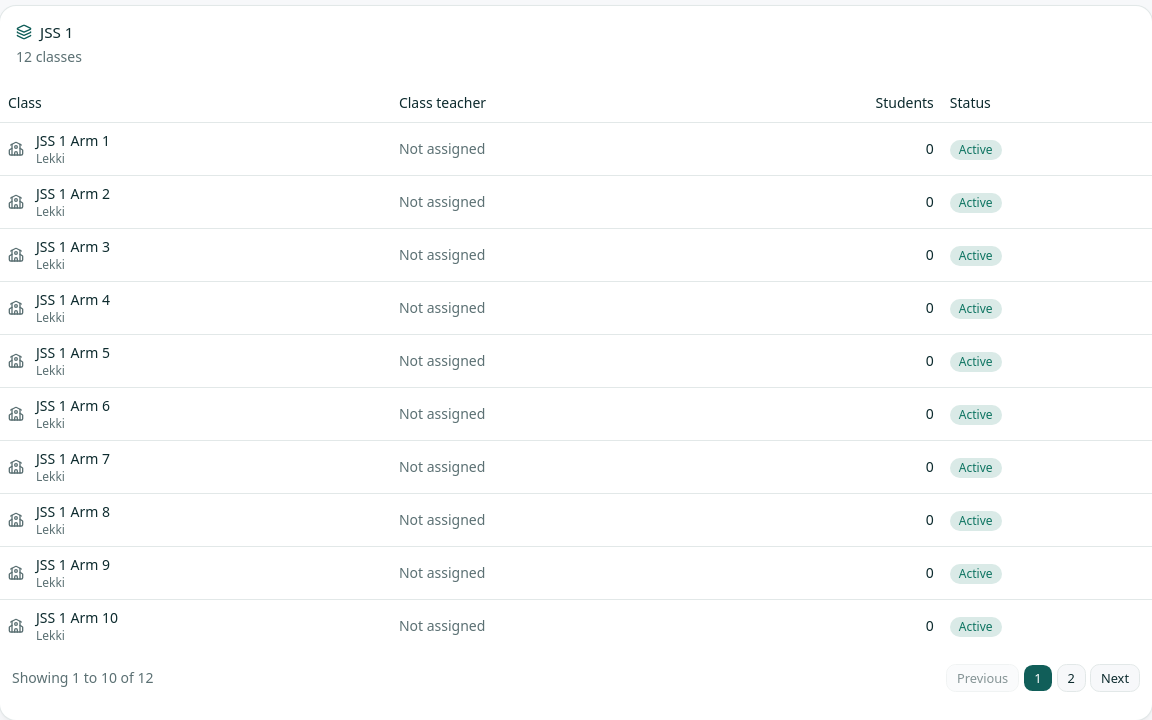
it: ClassesPage › pages a level of more than ten classes
(page scrolled)
Expected: the text "Showing 1 to 10 of 12" is shown, [12,668,154,688]
Step 1. Click the button named "Page 2" → click(1071, 678), box [1057,664,1086,692]
(page scrolled)
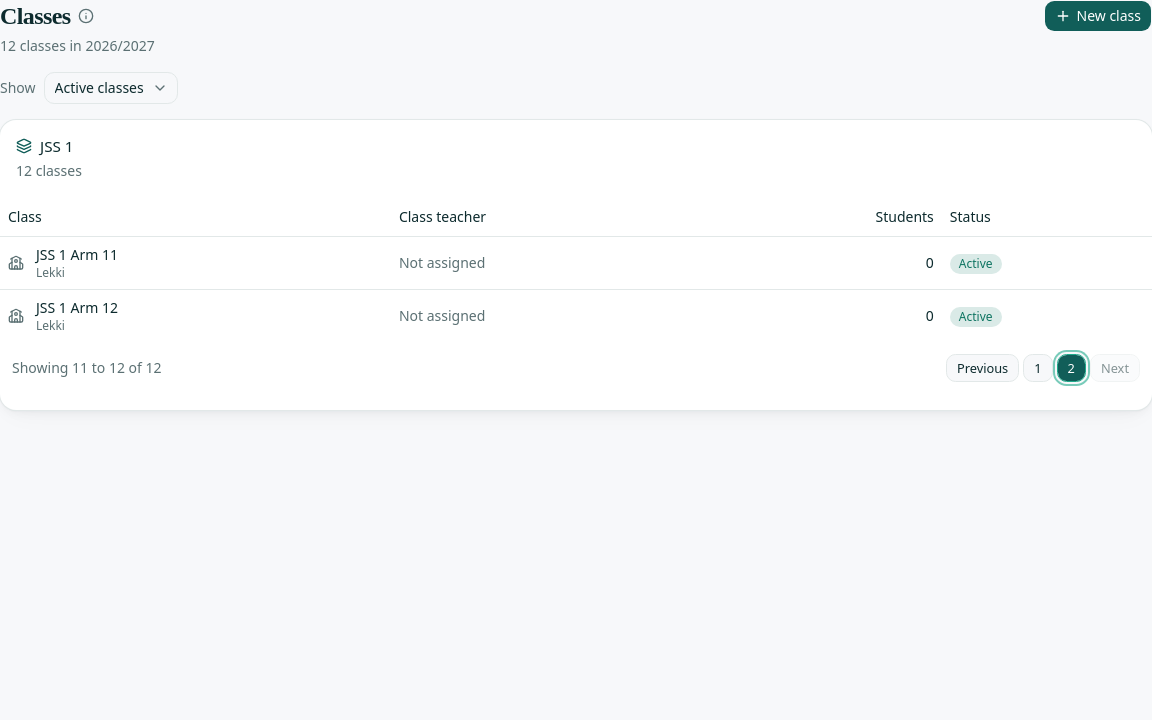
Expected: the number of rows is 3, [0,197,1151,237]; [0,237,1151,290]; [0,290,1151,342]
Expected: the button "JSS 1 Arm 12" is shown, [36,298,118,318]
